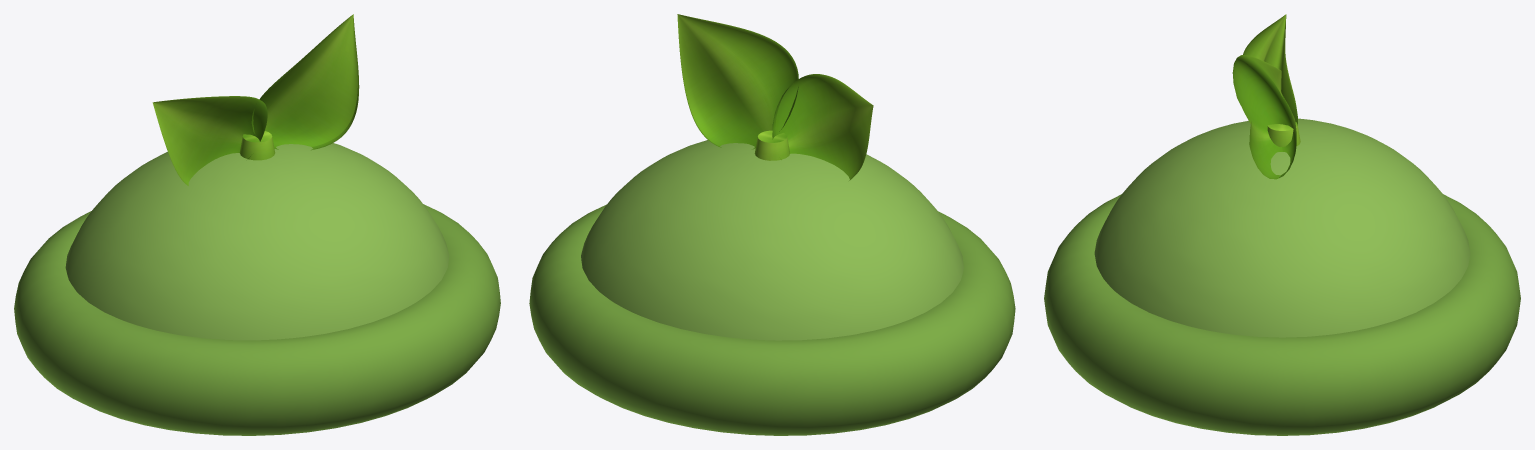
File: acc-beanie.glb
The picture shows the model from 3 angles, left to right: view 1: azimuth 30°, elevation 25°; view 2: azimuth 150°, elevation 25°; view 3: azimuth 270°, elevation 25°; orthographic projection. The views are drawn at different scales.
Size of the model in its own units: 1.17 by 0.8181 by 1.1.
Materials: 3 (1 with a texture image).
